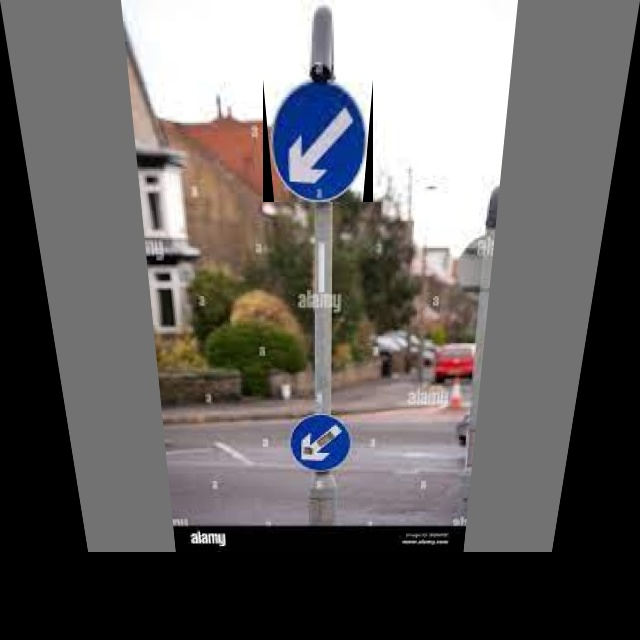Compulsory_Keep_Left: (263, 79, 373, 202)
